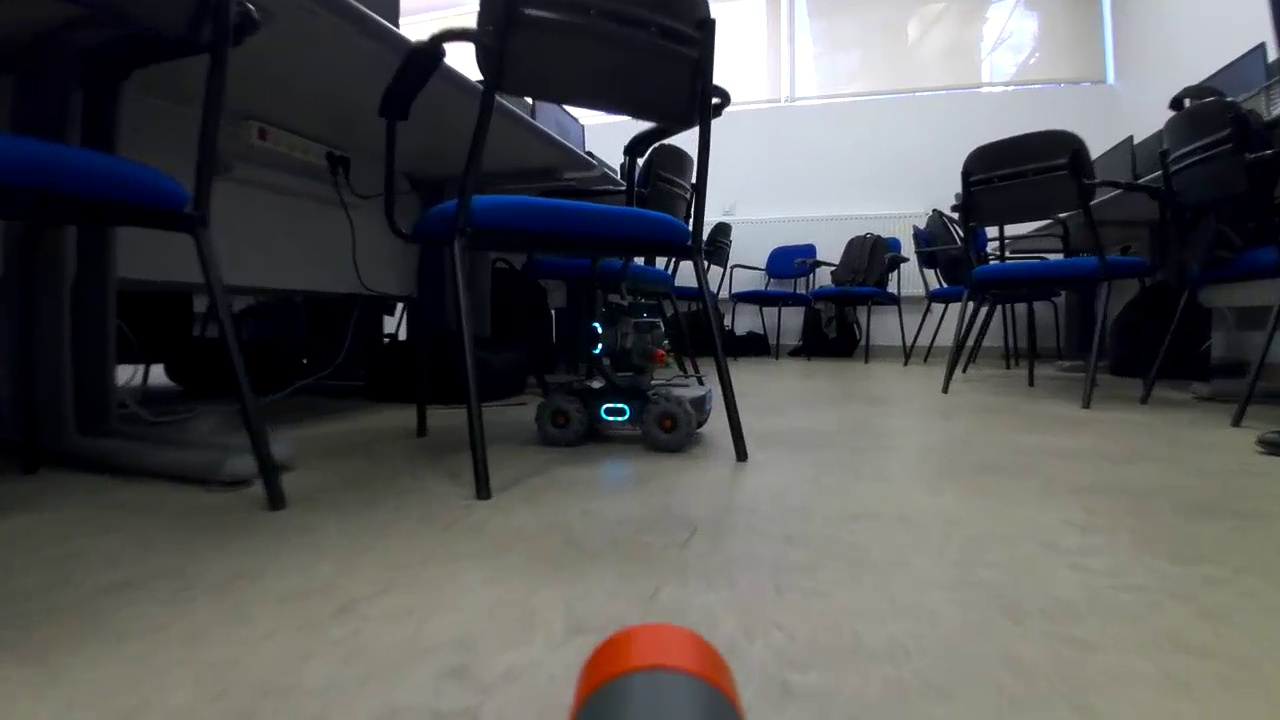robot: (536, 305, 716, 457)
